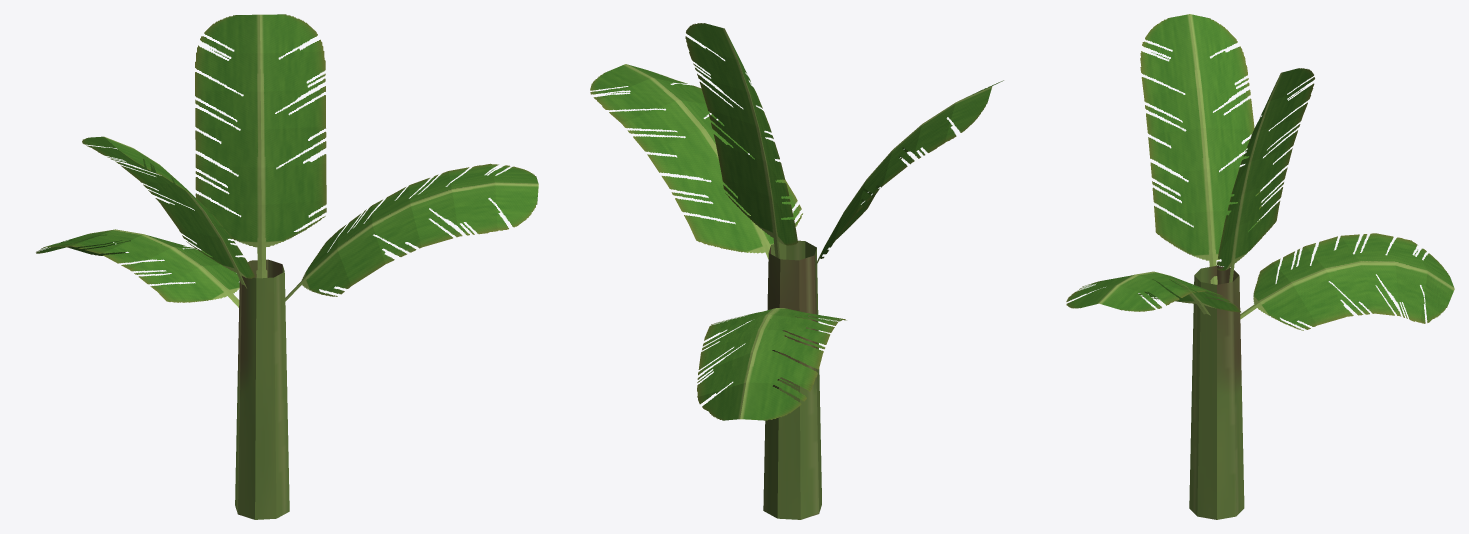
File: banana_2.obj
The picture shows the model from 3 angles, left to right: view 1: azimuth 30°, elevation 25°; view 2: azimuth 150°, elevation 25°; view 3: azimuth 270°, elevation 25°; orthographic projection. The views are drawn at different scales.
Visible parts, largest first — view 1: banana; view 2: banana; view 3: banana.
Boxes of the visible parts, bbox=[...] form: banana: bbox=[36, 14, 538, 519]; banana: bbox=[590, 23, 1003, 519]; banana: bbox=[1066, 14, 1454, 519].
Bounding box in the file's own units: 1.3 × 1.35 × 1.1.
